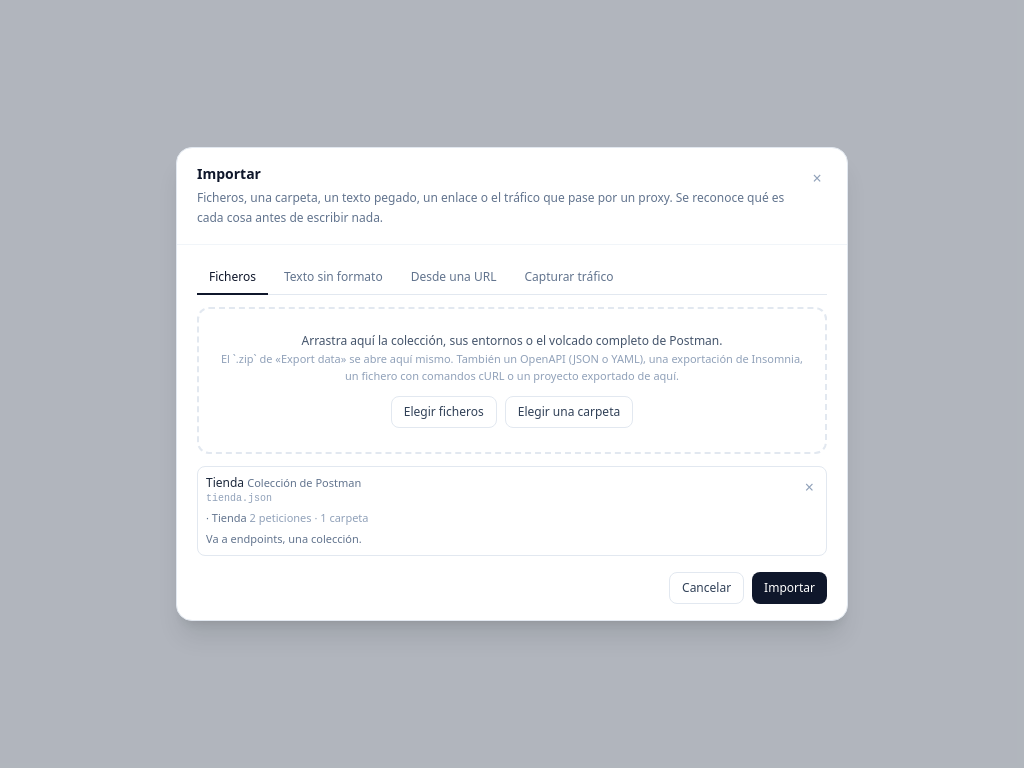
Test: el resumen lleva al endpoint que se acaba de crear › con muchos se enlazan los primeros y el resto va a la lista, que tiene buscador
Click the button "Importar": (790, 588) [752,572,827,604]
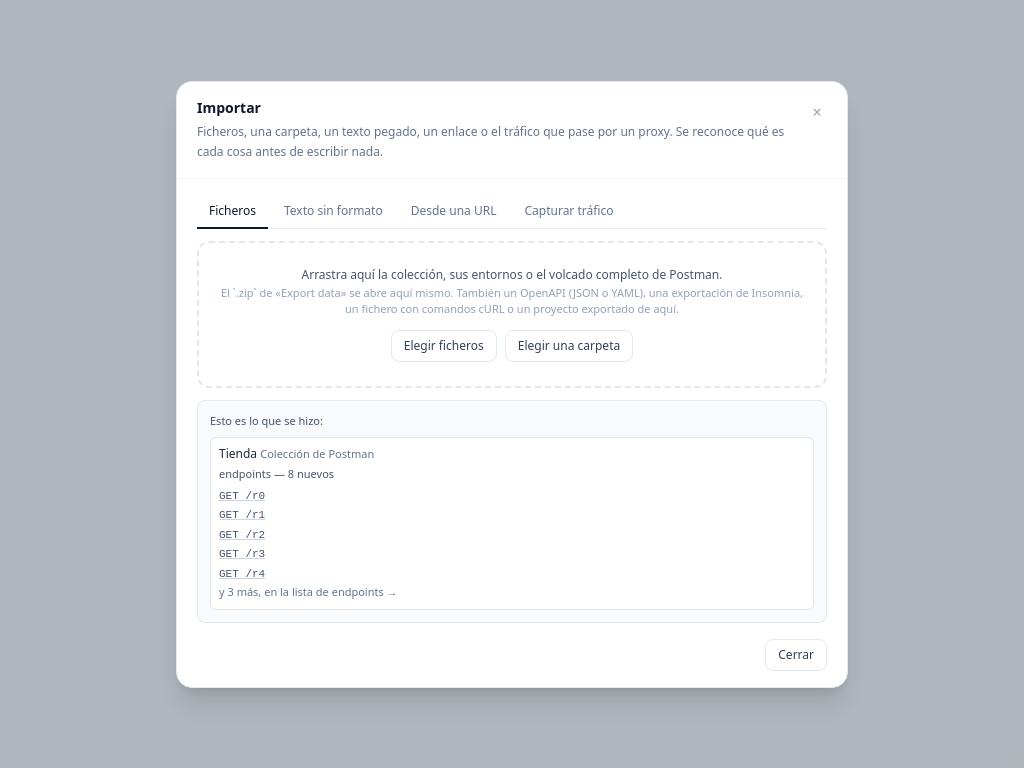
expect the link "GET /r0" is shown: met, box [219,490,265,502]
